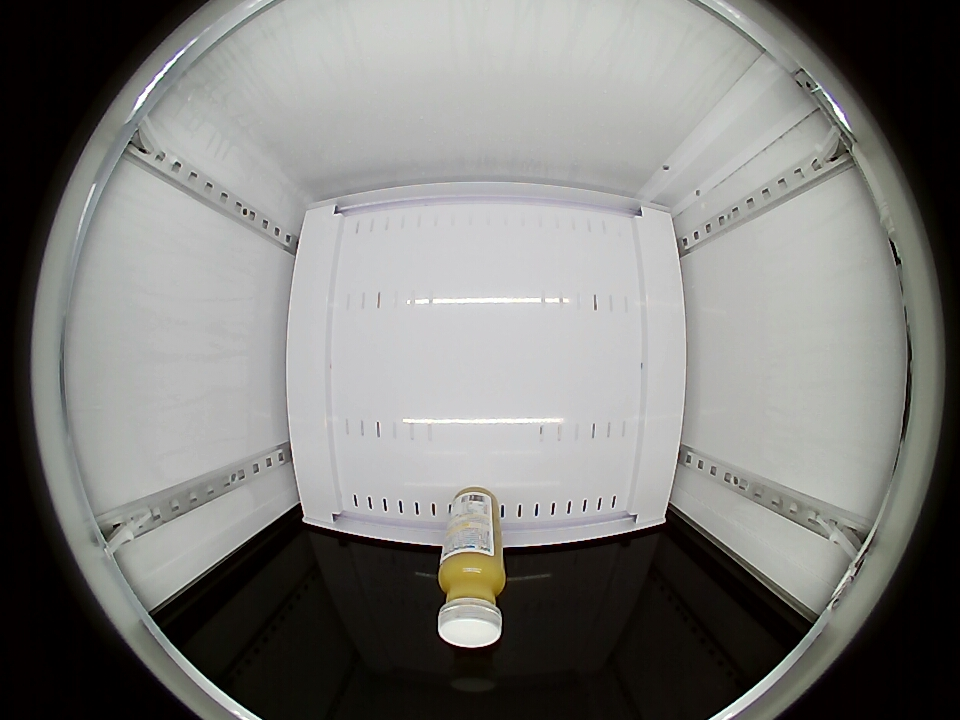nfc: (436, 552, 506, 648)
